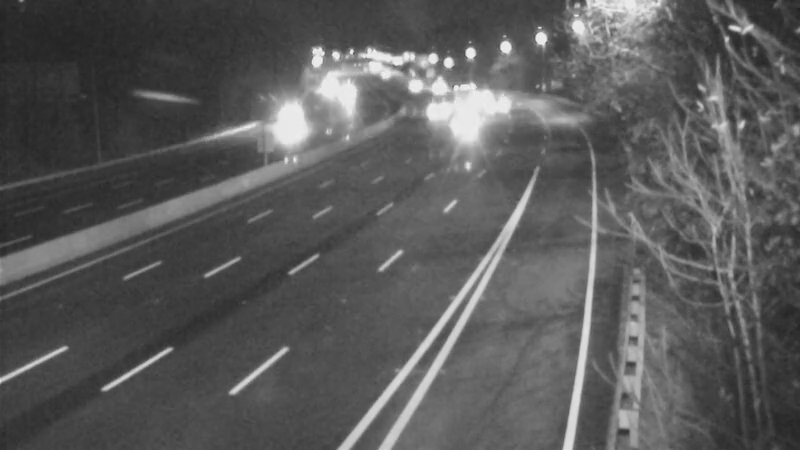vehicle: (385, 60, 435, 110), (408, 61, 458, 111), (441, 66, 491, 116), (471, 80, 521, 130), (412, 85, 462, 135), (437, 101, 487, 151), (261, 94, 311, 144), (324, 71, 374, 121)
